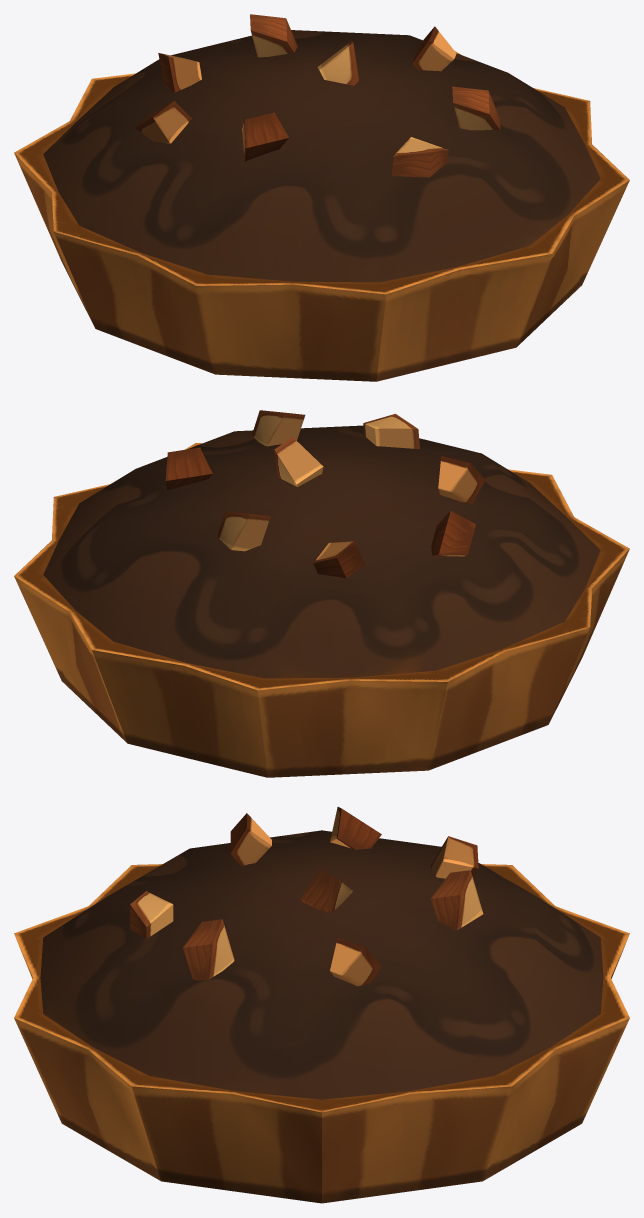
The model's file is chocolate pie.FBX.
The picture shows the model from 3 angles, top to bottom: view 1: azimuth 30°, elevation 25°; view 2: azimuth 150°, elevation 25°; view 3: azimuth 270°, elevation 25°; orthographic projection. The views are drawn at different scales.
Parts seen in each view (by area): view 1: chocolate pie; view 2: chocolate pie; view 3: chocolate pie.
Part boxes in pixels (<box>): chocolate pie: <box>14,14,629,381</box>; chocolate pie: <box>14,410,629,777</box>; chocolate pie: <box>14,807,629,1203</box>.
Bounding box in the file's own units: 12.61 × 5.04 × 11.99.
